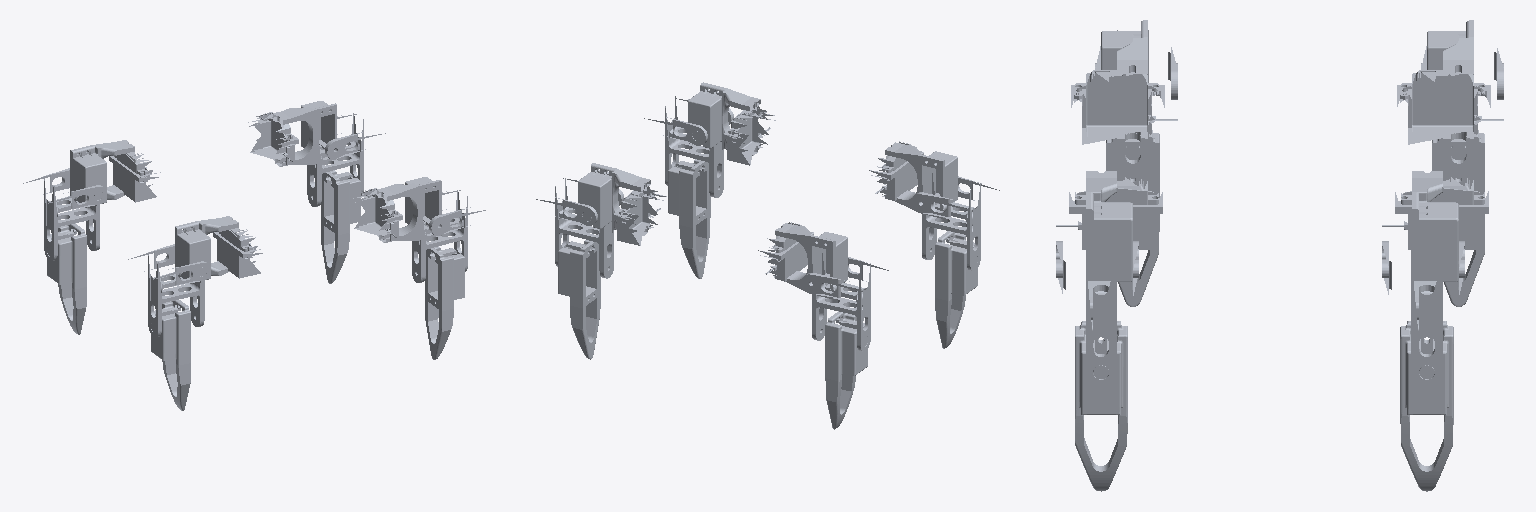
The robot description file, URDF, robot "facehugger":
<?xml version="1.0" ?>
<robot name="facehugger">

  <!-- ===================== MATERIALS ===================== -->
  <material name="dark_grey">
    <color rgba="0.3 0.3 0.3 1.0"/>
  </material>
  <material name="orange">
    <color rgba="0.9 0.5 0.1 1.0"/>
  </material>
  <material name="blue">
    <color rgba="0.2 0.4 0.8 1.0"/>
  </material>
  <material name="light_grey">
    <color rgba="0.6 0.6 0.6 1.0"/>
  </material>
  <material name="leg">
    <color rgba="0.78 0.80 0.84 1.0"/>
  </material>

  <!-- ===================== BODY ===================== -->
  <link name="body">
    <inertial>
      <origin xyz="0 0 0" rpy="0 0 0"/>
      <mass value="0.700"/>
      <inertia ixx="0.0033" ixy="0" ixz="0" iyy="0.0018" iyz="0" izz="0.0045"/>
    </inertial>
    <visual>
      <origin xyz="0 0 0" rpy="0 0 0"/>
      <geometry>
        <mesh filename="meshes/QuadrupedBody.stl" scale="0.001 0.001 0.001"/>
      </geometry>
      <material name="dark_grey"/>
    </visual>
    <collision>
      <origin xyz="0 0 0.025" rpy="0 0 0"/>
      <geometry>
        <box size="0.184 0.235 0.051"/>
      </geometry>
    </collision>
  </link>

  <!-- ==================== FRONT LEFT LEG ==================== -->
  <!-- Shoulder joint: yaw (rotation around Z) -->
  <joint name="fl_shoulder_joint" type="revolute">
    <parent link="body"/>
    <child link="fl_shoulder"/>
    <origin xyz="-0.080 0.105 0.025" rpy="0 0 0"/>
    <axis xyz="0 0 1"/>
    <limit lower="-2.356" upper="2.356" effort="1.47" velocity="5.0"/>
  </joint>
  <link name="fl_shoulder">
    <inertial>
      <origin xyz="-0.04 0 0" rpy="0 0 0"/>
      <mass value="0.082"/>
      <inertia ixx="0.000005" ixy="0" ixz="0" iyy="0.000015" iyz="0" izz="0.000015"/>
    </inertial>
    <visual>
      <!-- Shoulder segment from split leg assembly. Mesh +Y -> link -X. -->
      <origin xyz="0 0 0" rpy="0 0 1.5708"/>
      <geometry>
        <mesh filename="meshes/leg_shoulder.stl" scale="0.001 0.001 0.001"/>
      </geometry>
      <material name="leg"/>
    </visual>
    <collision>
      <origin xyz="-0.04 0 0" rpy="0 0 0"/>
      <geometry>
        <box size="0.080 0.025 0.025"/>
      </geometry>
    </collision>
  </link>

  <!-- Hip joint: pitch (rotation around Y) -->
  <joint name="fl_hip_joint" type="revolute">
    <parent link="fl_shoulder"/>
    <child link="fl_upper_leg"/>
    <origin xyz="-0.08 0 0" rpy="0 0 0"/>
    <axis xyz="0 1 0"/>
    <limit lower="-1.5708" upper="1.5708" effort="1.47" velocity="5.0"/>
  </joint>
  <link name="fl_upper_leg">
    <inertial>
      <origin xyz="0 0 -0.0375" rpy="0 0 0"/>
      <mass value="0.092"/>
      <inertia ixx="0.000025" ixy="0" ixz="0" iyy="0.000025" iyz="0" izz="0.000005"/>
    </inertial>
    <visual>
      <!-- Upper-leg segment. Offset +Z=0.080 shifts mesh Y=80 to link origin (hip). -->
      <origin xyz="0 0 0.080" rpy="-1.5708 0 0"/>
      <geometry>
        <mesh filename="meshes/leg_upper.stl" scale="0.001 0.001 0.001"/>
      </geometry>
      <material name="leg"/>
    </visual>
    <collision>
      <origin xyz="0 0 -0.0375" rpy="0 0 0"/>
      <geometry>
        <box size="0.025 0.025 0.075"/>
      </geometry>
    </collision>
  </link>

  <!-- Knee joint: pitch (rotation around Y) -->
  <joint name="fl_knee_joint" type="revolute">
    <parent link="fl_upper_leg"/>
    <child link="fl_lower_leg"/>
    <origin xyz="0 0 -0.075" rpy="0 0 0"/>
    <axis xyz="0 1 0"/>
    <limit lower="-2.356" upper="0.5" effort="1.47" velocity="5.0"/>
  </joint>
  <link name="fl_lower_leg">
    <inertial>
      <origin xyz="0 0 -0.045" rpy="0 0 0"/>
      <mass value="0.092"/>
      <inertia ixx="0.000035" ixy="0" ixz="0" iyy="0.000035" iyz="0" izz="0.000005"/>
    </inertial>
    <visual>
      <!-- Lower-leg segment. Offset +Z=0.155 shifts mesh Y=155 to link origin (knee). -->
      <origin xyz="0 0 0.155" rpy="-1.5708 0 0"/>
      <geometry>
        <mesh filename="meshes/leg_lower.stl" scale="0.001 0.001 0.001"/>
      </geometry>
      <material name="leg"/>
    </visual>
    <collision>
      <origin xyz="0 0 -0.0387" rpy="0 0 0"/>
      <geometry>
        <box size="0.020 0.020 0.0774"/>
      </geometry>
    </collision>
    <collision>
      <origin xyz="0 0 -0.0774" rpy="0 0 0"/>
      <geometry>
        <sphere radius="0.008"/>
      </geometry>
    </collision>
  </link>

  <!-- ==================== FRONT RIGHT LEG ==================== -->
  <joint name="fr_shoulder_joint" type="revolute">
    <parent link="body"/>
    <child link="fr_shoulder"/>
    <origin xyz="0.080 0.105 0.025" rpy="0 0 3.14159"/>
    <axis xyz="0 0 1"/>
    <limit lower="-2.356" upper="2.356" effort="1.47" velocity="5.0"/>
  </joint>
  <link name="fr_shoulder">
    <inertial>
      <origin xyz="-0.04 0 0" rpy="0 0 0"/>
      <mass value="0.082"/>
      <inertia ixx="0.000005" ixy="0" ixz="0" iyy="0.000015" iyz="0" izz="0.000015"/>
    </inertial>
    <visual>
      <!-- Shoulder segment from split leg assembly. Mesh +Y -> link -X. -->
      <origin xyz="0 0 0" rpy="0 0 1.5708"/>
      <geometry>
        <mesh filename="meshes/leg_shoulder.stl" scale="0.001 0.001 0.001"/>
      </geometry>
      <material name="leg"/>
    </visual>
    <collision>
      <origin xyz="-0.04 0 0" rpy="0 0 0"/>
      <geometry>
        <box size="0.080 0.025 0.025"/>
      </geometry>
    </collision>
  </link>

  <joint name="fr_hip_joint" type="revolute">
    <parent link="fr_shoulder"/>
    <child link="fr_upper_leg"/>
    <origin xyz="-0.08 0 0" rpy="0 0 0"/>
    <axis xyz="0 1 0"/>
    <limit lower="-1.5708" upper="1.5708" effort="1.47" velocity="5.0"/>
  </joint>
  <link name="fr_upper_leg">
    <inertial>
      <origin xyz="0 0 -0.0375" rpy="0 0 0"/>
      <mass value="0.092"/>
      <inertia ixx="0.000025" ixy="0" ixz="0" iyy="0.000025" iyz="0" izz="0.000005"/>
    </inertial>
    <visual>
      <!-- Upper-leg segment. Offset +Z=0.080 shifts mesh Y=80 to link origin (hip). -->
      <origin xyz="0 0 0.080" rpy="-1.5708 0 0"/>
      <geometry>
        <mesh filename="meshes/leg_upper.stl" scale="0.001 0.001 0.001"/>
      </geometry>
      <material name="leg"/>
    </visual>
    <collision>
      <origin xyz="0 0 -0.0375" rpy="0 0 0"/>
      <geometry>
        <box size="0.025 0.025 0.075"/>
      </geometry>
    </collision>
  </link>

  <joint name="fr_knee_joint" type="revolute">
    <parent link="fr_upper_leg"/>
    <child link="fr_lower_leg"/>
    <origin xyz="0 0 -0.075" rpy="0 0 0"/>
    <axis xyz="0 1 0"/>
    <limit lower="-2.356" upper="0.5" effort="1.47" velocity="5.0"/>
  </joint>
  <link name="fr_lower_leg">
    <inertial>
      <origin xyz="0 0 -0.045" rpy="0 0 0"/>
      <mass value="0.092"/>
      <inertia ixx="0.000035" ixy="0" ixz="0" iyy="0.000035" iyz="0" izz="0.000005"/>
    </inertial>
    <visual>
      <!-- Lower-leg segment. Offset +Z=0.155 shifts mesh Y=155 to link origin (knee). -->
      <origin xyz="0 0 0.155" rpy="-1.5708 0 0"/>
      <geometry>
        <mesh filename="meshes/leg_lower.stl" scale="0.001 0.001 0.001"/>
      </geometry>
      <material name="leg"/>
    </visual>
    <collision>
      <origin xyz="0 0 -0.0387" rpy="0 0 0"/>
      <geometry>
        <box size="0.020 0.020 0.0774"/>
      </geometry>
    </collision>
    <collision>
      <origin xyz="0 0 -0.0774" rpy="0 0 0"/>
      <geometry>
        <sphere radius="0.008"/>
      </geometry>
    </collision>
  </link>

  <!-- ==================== REAR LEFT LEG ==================== -->
  <joint name="rl_shoulder_joint" type="revolute">
    <parent link="body"/>
    <child link="rl_shoulder"/>
    <origin xyz="-0.080 -0.105 0.025" rpy="0 0 0"/>
    <axis xyz="0 0 1"/>
    <limit lower="-2.356" upper="2.356" effort="1.47" velocity="5.0"/>
  </joint>
  <link name="rl_shoulder">
    <inertial>
      <origin xyz="-0.04 0 0" rpy="0 0 0"/>
      <mass value="0.082"/>
      <inertia ixx="0.000005" ixy="0" ixz="0" iyy="0.000015" iyz="0" izz="0.000015"/>
    </inertial>
    <visual>
      <!-- Shoulder segment from split leg assembly. Mesh +Y -> link -X. -->
      <origin xyz="0 0 0" rpy="0 0 1.5708"/>
      <geometry>
        <mesh filename="meshes/leg_shoulder.stl" scale="0.001 0.001 0.001"/>
      </geometry>
      <material name="leg"/>
    </visual>
    <collision>
      <origin xyz="-0.04 0 0" rpy="0 0 0"/>
      <geometry>
        <box size="0.080 0.025 0.025"/>
      </geometry>
    </collision>
  </link>

  <joint name="rl_hip_joint" type="revolute">
    <parent link="rl_shoulder"/>
    <child link="rl_upper_leg"/>
    <origin xyz="-0.08 0 0" rpy="0 0 0"/>
    <axis xyz="0 1 0"/>
    <limit lower="-1.5708" upper="1.5708" effort="1.47" velocity="5.0"/>
  </joint>
  <link name="rl_upper_leg">
    <inertial>
      <origin xyz="0 0 -0.0375" rpy="0 0 0"/>
      <mass value="0.092"/>
      <inertia ixx="0.000025" ixy="0" ixz="0" iyy="0.000025" iyz="0" izz="0.000005"/>
    </inertial>
    <visual>
      <!-- Upper-leg segment. Offset +Z=0.080 shifts mesh Y=80 to link origin (hip). -->
      <origin xyz="0 0 0.080" rpy="-1.5708 0 0"/>
      <geometry>
        <mesh filename="meshes/leg_upper.stl" scale="0.001 0.001 0.001"/>
      </geometry>
      <material name="leg"/>
    </visual>
    <collision>
      <origin xyz="0 0 -0.0375" rpy="0 0 0"/>
      <geometry>
        <box size="0.025 0.025 0.075"/>
      </geometry>
    </collision>
  </link>

  <joint name="rl_knee_joint" type="revolute">
    <parent link="rl_upper_leg"/>
    <child link="rl_lower_leg"/>
    <origin xyz="0 0 -0.075" rpy="0 0 0"/>
    <axis xyz="0 1 0"/>
    <limit lower="-2.356" upper="0.5" effort="1.47" velocity="5.0"/>
  </joint>
  <link name="rl_lower_leg">
    <inertial>
      <origin xyz="0 0 -0.045" rpy="0 0 0"/>
      <mass value="0.092"/>
      <inertia ixx="0.000035" ixy="0" ixz="0" iyy="0.000035" iyz="0" izz="0.000005"/>
    </inertial>
    <visual>
      <!-- Lower-leg segment. Offset +Z=0.155 shifts mesh Y=155 to link origin (knee). -->
      <origin xyz="0 0 0.155" rpy="-1.5708 0 0"/>
      <geometry>
        <mesh filename="meshes/leg_lower.stl" scale="0.001 0.001 0.001"/>
      </geometry>
      <material name="leg"/>
    </visual>
    <collision>
      <origin xyz="0 0 -0.0387" rpy="0 0 0"/>
      <geometry>
        <box size="0.020 0.020 0.0774"/>
      </geometry>
    </collision>
    <collision>
      <origin xyz="0 0 -0.0774" rpy="0 0 0"/>
      <geometry>
        <sphere radius="0.008"/>
      </geometry>
    </collision>
  </link>

  <!-- ==================== REAR RIGHT LEG ==================== -->
  <joint name="rr_shoulder_joint" type="revolute">
    <parent link="body"/>
    <child link="rr_shoulder"/>
    <origin xyz="0.080 -0.105 0.025" rpy="0 0 3.14159"/>
    <axis xyz="0 0 1"/>
    <limit lower="-2.356" upper="2.356" effort="1.47" velocity="5.0"/>
  </joint>
  <link name="rr_shoulder">
    <inertial>
      <origin xyz="-0.04 0 0" rpy="0 0 0"/>
      <mass value="0.082"/>
      <inertia ixx="0.000005" ixy="0" ixz="0" iyy="0.000015" iyz="0" izz="0.000015"/>
    </inertial>
    <visual>
      <!-- Shoulder segment from split leg assembly. Mesh +Y -> link -X. -->
      <origin xyz="0 0 0" rpy="0 0 1.5708"/>
      <geometry>
        <mesh filename="meshes/leg_shoulder.stl" scale="0.001 0.001 0.001"/>
      </geometry>
      <material name="leg"/>
    </visual>
    <collision>
      <origin xyz="-0.04 0 0" rpy="0 0 0"/>
      <geometry>
        <box size="0.080 0.025 0.025"/>
      </geometry>
    </collision>
  </link>

  <joint name="rr_hip_joint" type="revolute">
    <parent link="rr_shoulder"/>
    <child link="rr_upper_leg"/>
    <origin xyz="-0.08 0 0" rpy="0 0 0"/>
    <axis xyz="0 1 0"/>
    <limit lower="-1.5708" upper="1.5708" effort="1.47" velocity="5.0"/>
  </joint>
  <link name="rr_upper_leg">
    <inertial>
      <origin xyz="0 0 -0.0375" rpy="0 0 0"/>
      <mass value="0.092"/>
      <inertia ixx="0.000025" ixy="0" ixz="0" iyy="0.000025" iyz="0" izz="0.000005"/>
    </inertial>
    <visual>
      <!-- Upper-leg segment. Offset +Z=0.080 shifts mesh Y=80 to link origin (hip). -->
      <origin xyz="0 0 0.080" rpy="-1.5708 0 0"/>
      <geometry>
        <mesh filename="meshes/leg_upper.stl" scale="0.001 0.001 0.001"/>
      </geometry>
      <material name="leg"/>
    </visual>
    <collision>
      <origin xyz="0 0 -0.0375" rpy="0 0 0"/>
      <geometry>
        <box size="0.025 0.025 0.075"/>
      </geometry>
    </collision>
  </link>

  <joint name="rr_knee_joint" type="revolute">
    <parent link="rr_upper_leg"/>
    <child link="rr_lower_leg"/>
    <origin xyz="0 0 -0.075" rpy="0 0 0"/>
    <axis xyz="0 1 0"/>
    <limit lower="-2.356" upper="0.5" effort="1.47" velocity="5.0"/>
  </joint>
  <link name="rr_lower_leg">
    <inertial>
      <origin xyz="0 0 -0.045" rpy="0 0 0"/>
      <mass value="0.092"/>
      <inertia ixx="0.000035" ixy="0" ixz="0" iyy="0.000035" iyz="0" izz="0.000005"/>
    </inertial>
    <visual>
      <!-- Lower-leg segment. Offset +Z=0.155 shifts mesh Y=155 to link origin (knee). -->
      <origin xyz="0 0 0.155" rpy="-1.5708 0 0"/>
      <geometry>
        <mesh filename="meshes/leg_lower.stl" scale="0.001 0.001 0.001"/>
      </geometry>
      <material name="leg"/>
    </visual>
    <collision>
      <origin xyz="0 0 -0.0387" rpy="0 0 0"/>
      <geometry>
        <box size="0.020 0.020 0.0774"/>
      </geometry>
    </collision>
    <collision>
      <origin xyz="0 0 -0.0774" rpy="0 0 0"/>
      <geometry>
        <sphere radius="0.008"/>
      </geometry>
    </collision>
  </link>

</robot>

--- What the picture shows (computed from the rendered views, not written in the file) ---
Views: 3 orthographic renders of the robot side by side, from view 1: azimuth 30°, elevation 25°; view 2: azimuth 150°, elevation 25°; view 3: azimuth 270°, elevation 25°.
Model facehugger with 13 links and 12 joints (12 revolute), rooted at body, posed all joints at 0.
Visible links, largest first — view 1: fl_shoulder, rl_shoulder, rr_shoulder, fr_shoulder, rl_upper_leg, fl_upper_leg, rr_upper_leg, fr_upper_leg, rr_lower_leg, fr_lower_leg, fl_lower_leg, rl_lower_leg; view 2: rr_shoulder, fr_shoulder, rl_shoulder, fl_shoulder, fl_upper_leg, rl_upper_leg, rr_upper_leg, fr_upper_leg, fr_lower_leg, rr_lower_leg, rl_lower_leg, fl_lower_leg; view 3: fl_shoulder, rl_shoulder, rr_shoulder, fr_shoulder, fr_upper_leg, rr_upper_leg, rl_upper_leg, fl_upper_leg, fr_lower_leg, rr_lower_leg, rl_lower_leg, fl_lower_leg.
Link boxes in pixels (bbox=[...]): fl_shoulder: bbox=[23, 140, 160, 211]; rl_shoulder: bbox=[128, 216, 262, 287]; rr_shoulder: bbox=[353, 177, 485, 242]; fr_shoulder: bbox=[248, 101, 385, 166]; rl_upper_leg: bbox=[148, 253, 204, 360]; fl_upper_leg: bbox=[44, 178, 99, 284]; rr_upper_leg: bbox=[412, 190, 467, 310]; fr_upper_leg: bbox=[307, 113, 363, 234]; rr_lower_leg: bbox=[425, 286, 464, 359]; fr_lower_leg: bbox=[321, 209, 360, 283]; fl_lower_leg: bbox=[47, 266, 86, 334]; rl_lower_leg: bbox=[151, 342, 190, 410]; rr_shoulder: bbox=[644, 82, 775, 165]; fr_shoulder: bbox=[536, 163, 666, 245]; rl_shoulder: bbox=[869, 141, 999, 219]; fl_shoulder: bbox=[758, 222, 888, 300]; fl_upper_leg: bbox=[812, 253, 870, 377]; rl_upper_leg: bbox=[922, 173, 980, 297]; rr_upper_leg: bbox=[665, 96, 723, 227]; fr_upper_leg: bbox=[555, 178, 613, 307]; fr_lower_leg: bbox=[558, 279, 600, 359]; rr_lower_leg: bbox=[679, 199, 710, 278]; rl_lower_leg: bbox=[935, 274, 976, 348]; fl_lower_leg: bbox=[825, 355, 867, 429]; fl_shoulder: bbox=[1397, 20, 1503, 144]; rl_shoulder: bbox=[1071, 20, 1177, 144]; rr_shoulder: bbox=[1056, 171, 1162, 295]; fr_shoulder: bbox=[1382, 171, 1488, 294]; fr_upper_leg: bbox=[1400, 223, 1453, 413]; rr_upper_leg: bbox=[1075, 259, 1127, 413]; rl_upper_leg: bbox=[1106, 30, 1159, 221]; fl_upper_leg: bbox=[1432, 130, 1484, 220]; fr_lower_leg: bbox=[1400, 380, 1453, 491]; rr_lower_leg: bbox=[1075, 378, 1127, 491]; rl_lower_leg: bbox=[1118, 214, 1159, 306]; fl_lower_leg: bbox=[1444, 214, 1484, 306].
Size in the robot's own frame: 0.3819 by 0.2891 by 0.2024 metres.
Meshes: 4 distinct files referenced, 12 mesh visuals loaded (3 binary STL); not drawn: 1 (reference not matched to a file when rendering).
